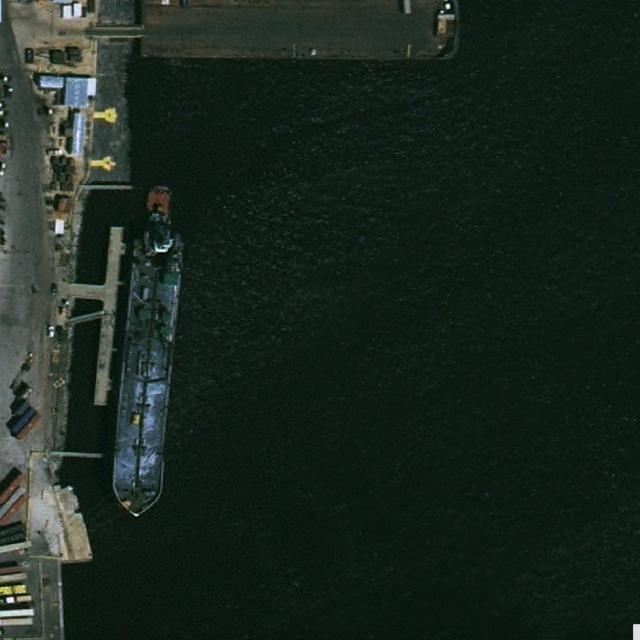Oil Tanker: (109, 228, 182, 518)
